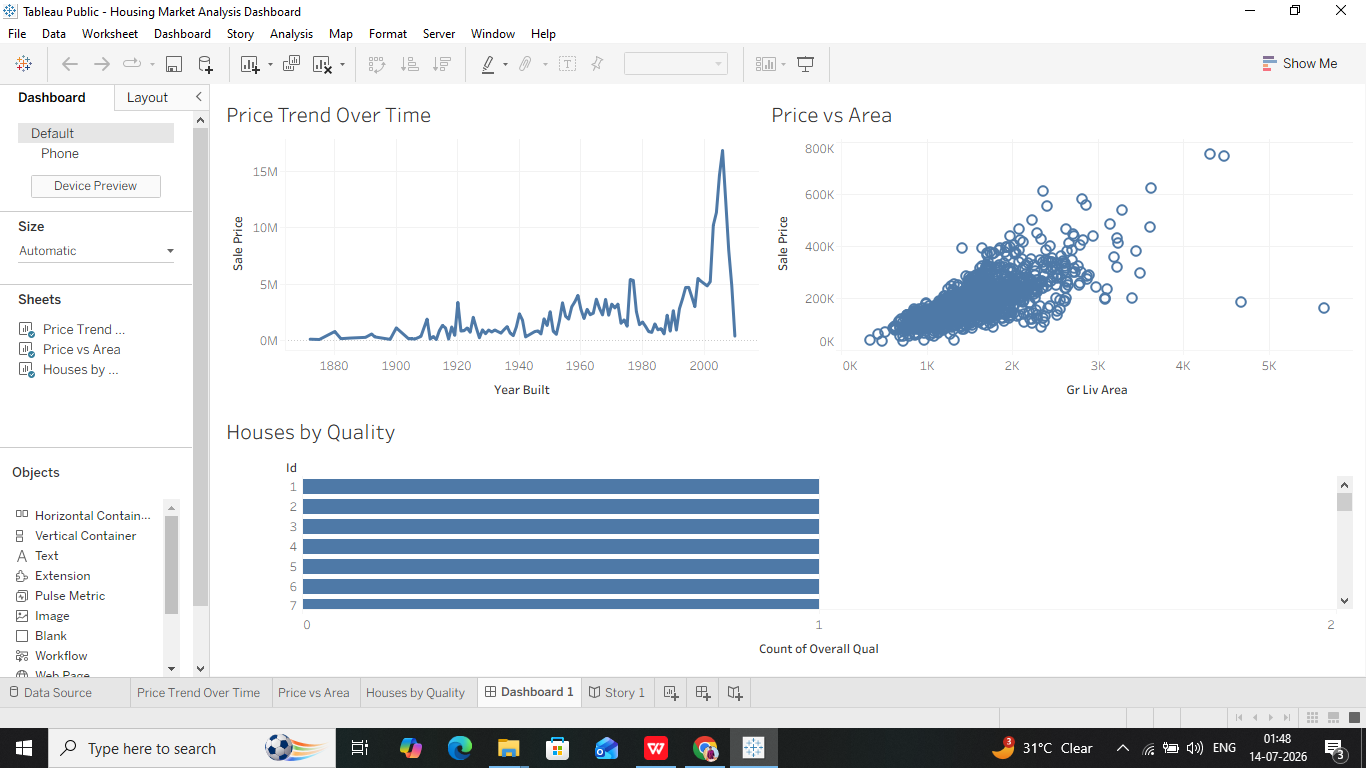

Layout of this report page (visuals, bound fields, positions):
{"tool":"tableau","page":{"name":"Dashboard 1","canvas":[1000,1000],"units":"permille","ordinal":0},"visuals":[{"type":"worksheet","title":"Price Trend Over Time","mark":"Automatic","rows":["SalePrice"],"cols":["YearBuilt"],"box":[6.9,13.5,471.9,535.5]},{"type":"worksheet","title":"Price vs Area","mark":"Automatic","rows":["SalePrice"],"cols":["GrLivArea"],"box":[478.8,13.5,514.3,535.5]},{"type":"worksheet","title":"Houses by Quality","mark":"Automatic","rows":["Id"],"cols":["OverallQual"],"box":[6.9,549,986.1,437.5]}]}

Visuals, with their boxes on the dashboard's canvas, which has no fixed pixel size, in thousandths of its width and height (x1, y1, x2, y2). These are canvas units, not pixel positions in the 1366x768 screenshot, which may show the page scaled, cropped or inside an application window:
"Price Trend Over Time" worksheet: [7, 14, 479, 549]
"Price vs Area" worksheet: [479, 14, 993, 549]
"Houses by Quality" worksheet: [7, 549, 993, 986]
